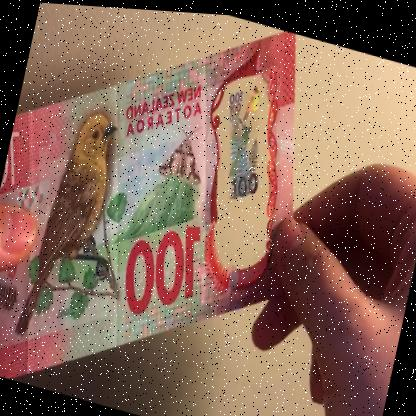100B: (203, 64, 283, 218)
